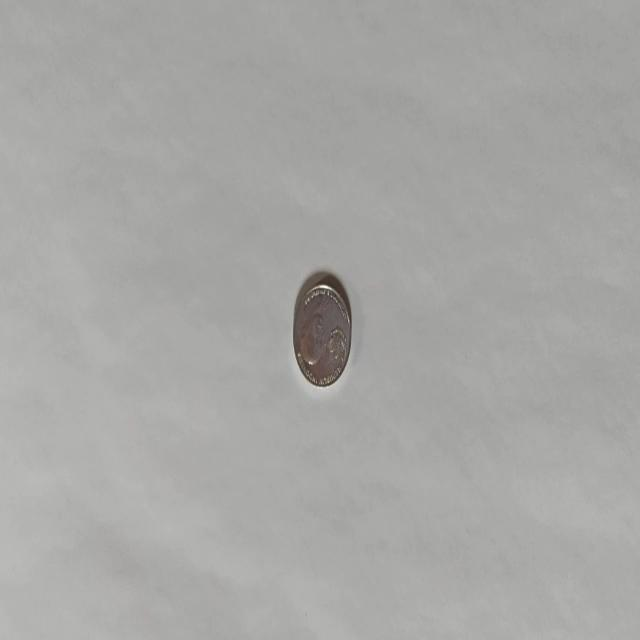lima ratus rupiah: (292, 276, 352, 388)
